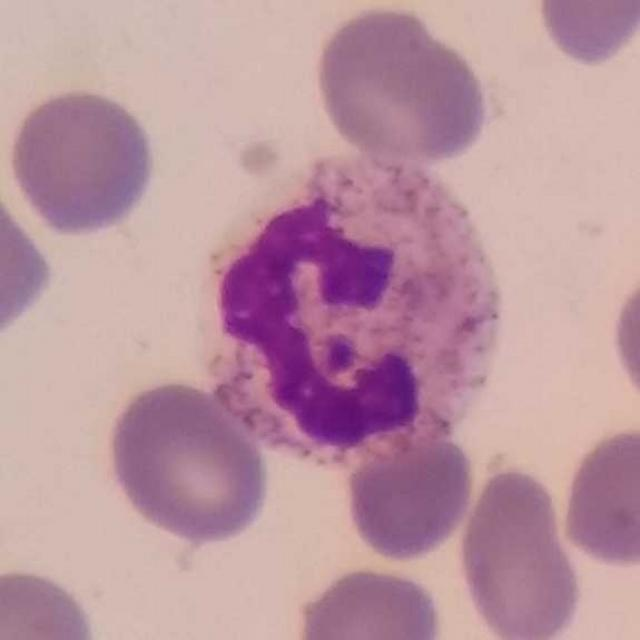Neutrophil: (190, 147, 524, 470)
RBC: (308, 0, 493, 169), (100, 375, 275, 548), (2, 82, 163, 240), (452, 458, 588, 640), (337, 421, 480, 564), (556, 420, 640, 572), (290, 562, 448, 640), (0, 182, 55, 340), (0, 562, 102, 640), (531, 0, 640, 70), (605, 253, 640, 423)
